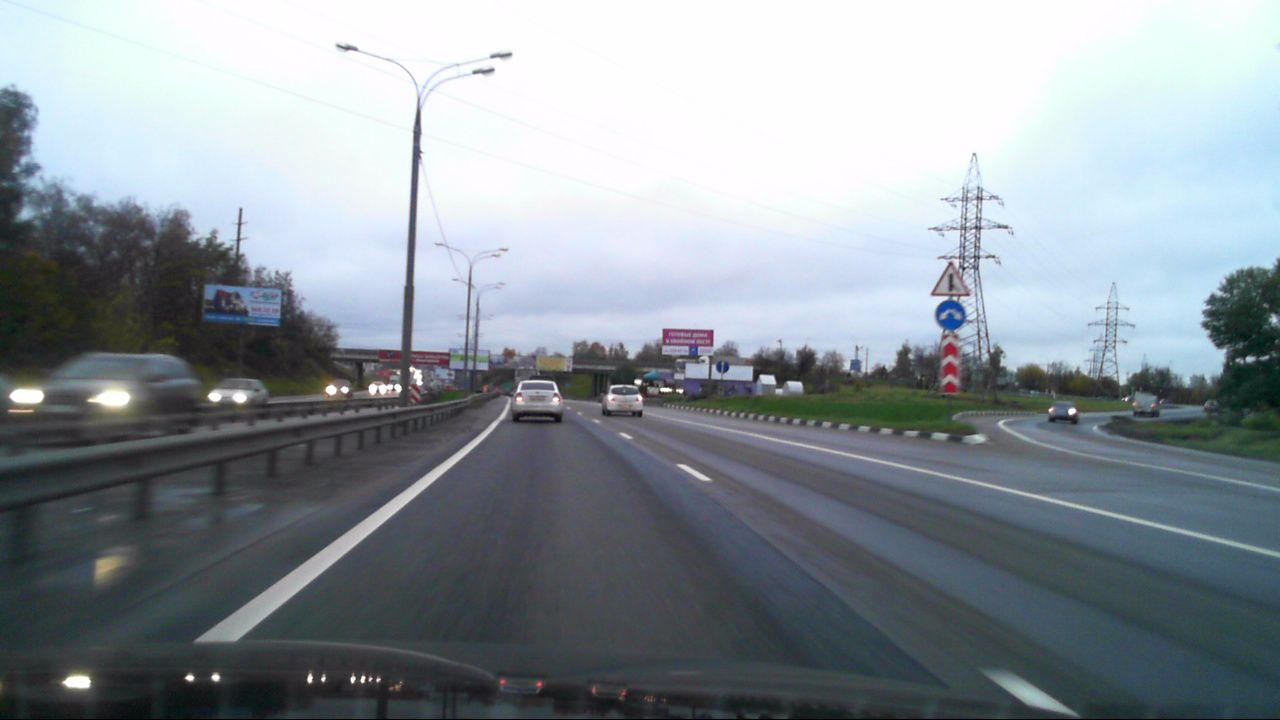2_3_6: (930, 261, 970, 296)
4_1_1: (716, 358, 730, 373)
4_2_3: (934, 297, 968, 329)
8_22_3: (941, 331, 962, 394)
